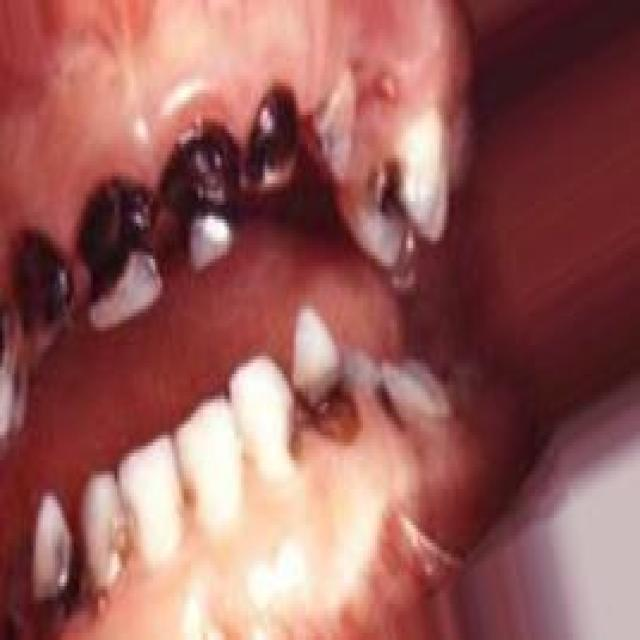caries: (69, 173, 160, 327), (358, 134, 444, 255), (160, 127, 240, 251), (25, 524, 102, 632), (286, 357, 366, 458), (238, 78, 308, 192), (9, 217, 71, 342), (108, 495, 146, 586)
